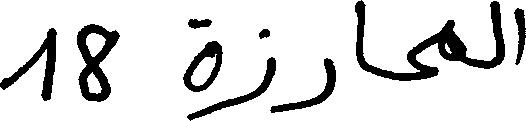X: (0, 23, 56, 105), (183, 14, 220, 120), (233, 24, 275, 117), (77, 19, 116, 106), (286, 53, 335, 115), (409, 29, 436, 85), (440, 15, 464, 67), (490, 0, 504, 72), (355, 0, 366, 75), (515, 3, 525, 69)
